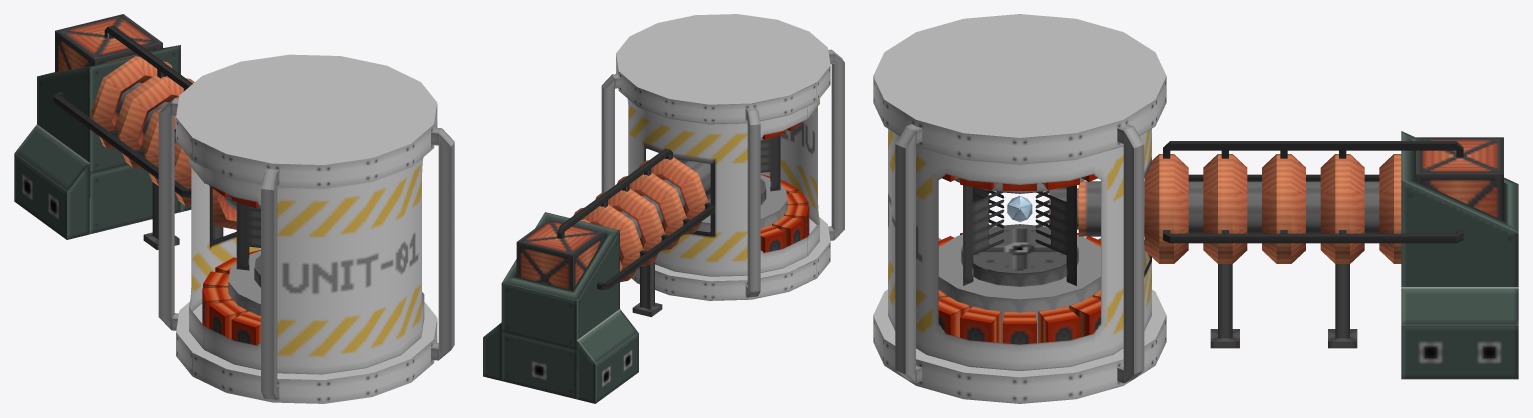
The model's file is exposure_chamber.obj.
3 renders of one model, left to right at view 1: azimuth 30°, elevation 25°; view 2: azimuth 150°, elevation 25°; view 3: azimuth 270°, elevation 25°, orthographic. The views are drawn at different scales.
Parts seen in each view (by area): view 1: Chamber, Magnets; view 2: Chamber, Magnets; view 3: Chamber, Magnets.
Boxes of the visible parts, box(x1,y1,x2,y2) form: Chamber: box(14, 14, 454, 403); Magnets: box(202, 185, 260, 345); Chamber: box(483, 14, 844, 403); Magnets: box(760, 121, 809, 252); Chamber: box(873, 14, 1518, 403); Magnets: box(938, 174, 1100, 344).
Bounding box in the file's own units: 5 × 5 × 11.
